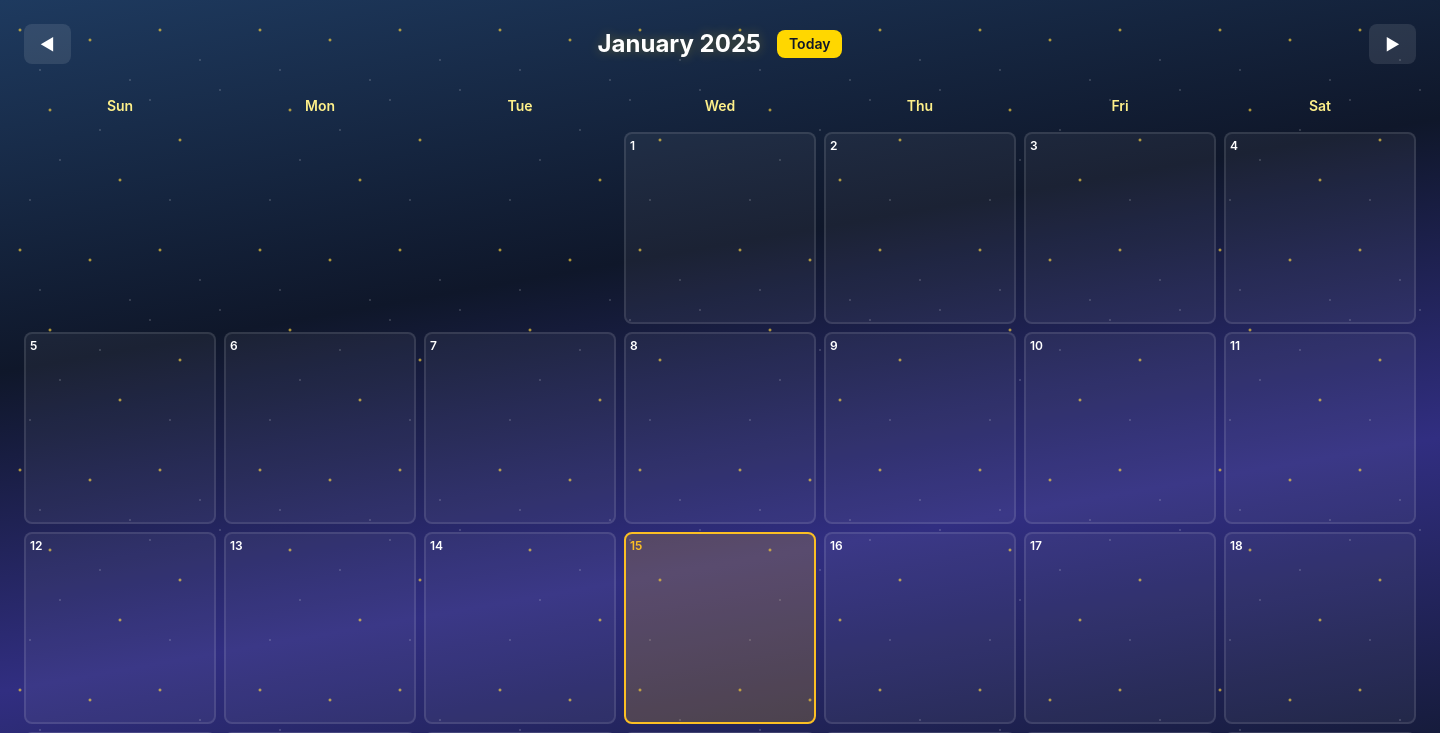
Test: CalendarView › Navigation › navigates to previous month
// Click the previous button
Click the button "◀": (47, 44) x1=24 y1=24 x2=71 y2=64
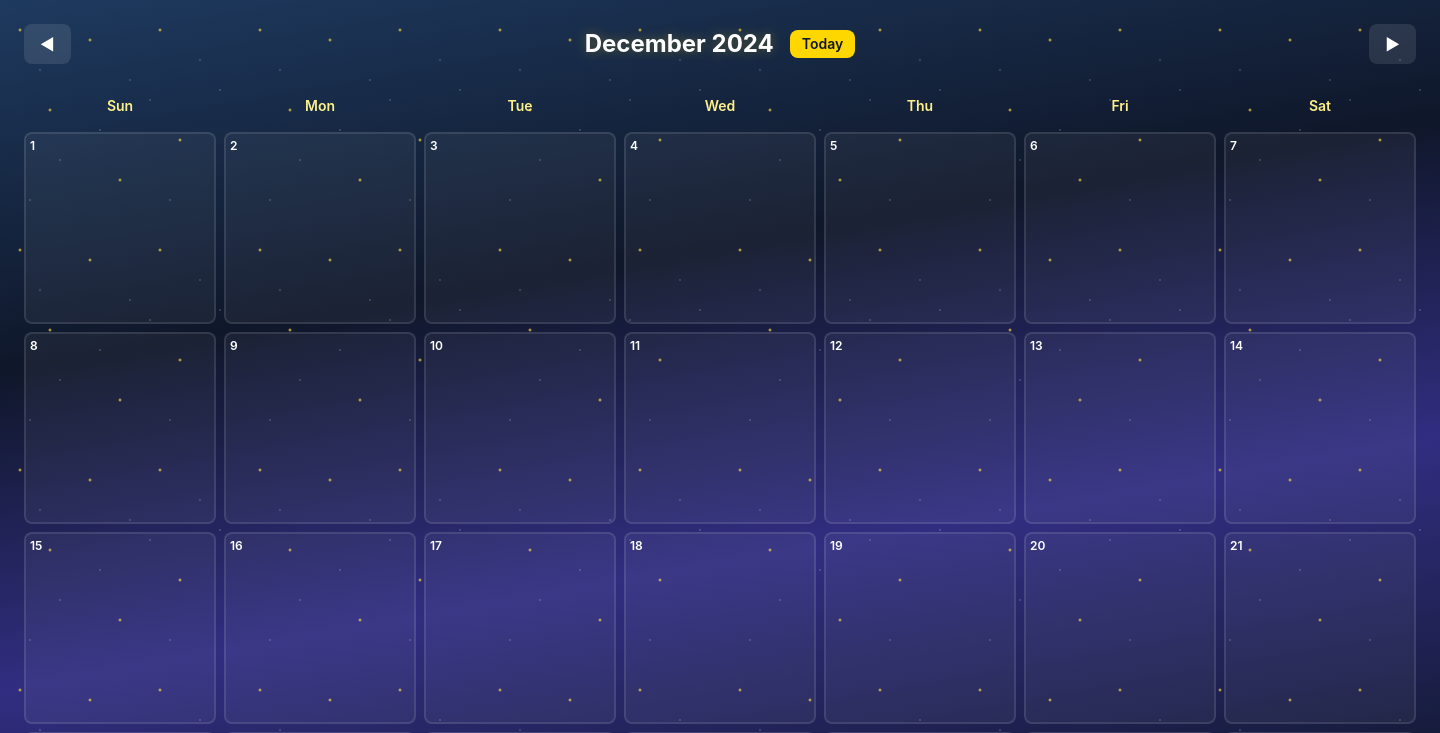
Expected: the heading "December 2024" is shown, x1=585 y1=28 x2=774 y2=60
